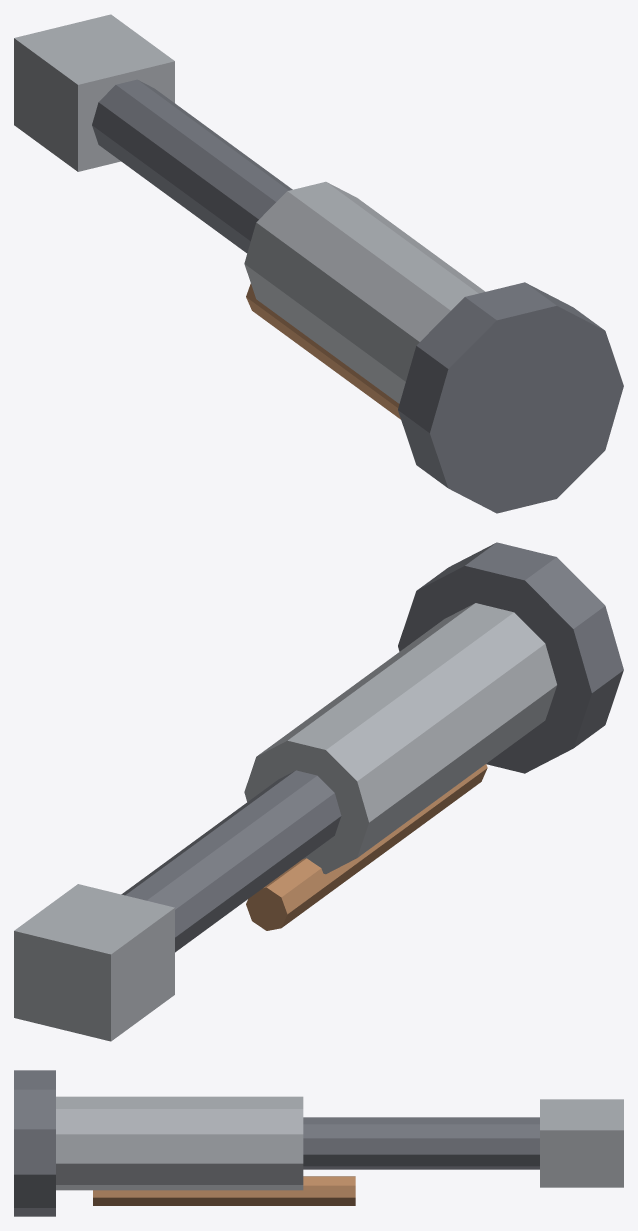
Rendered from pdc_cowl_barrel.glb.
3 views of the same model, one above another, from view 1: azimuth 30°, elevation 25°; view 2: azimuth 150°, elevation 25°; view 3: azimuth 270°, elevation 25° (orthographic). The views are drawn at different scales.
Size of the model in its own units: 0.28 by 0.2663 by 1.16.
